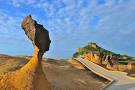yehliu: (15, 14, 59, 54)
